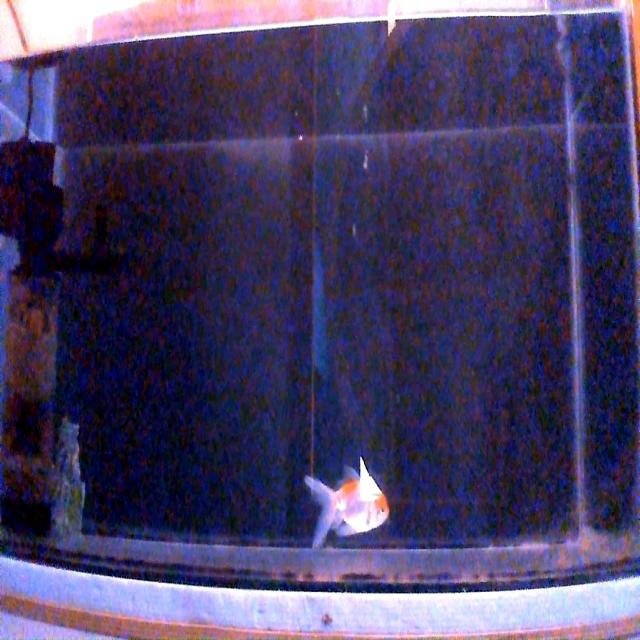fish: (303, 456, 390, 550)
